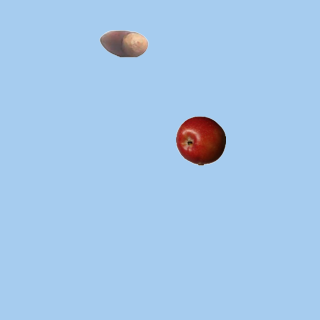Apple Braeburn: (175, 115, 225, 165)
Hazelnut: (98, 18, 148, 68)
